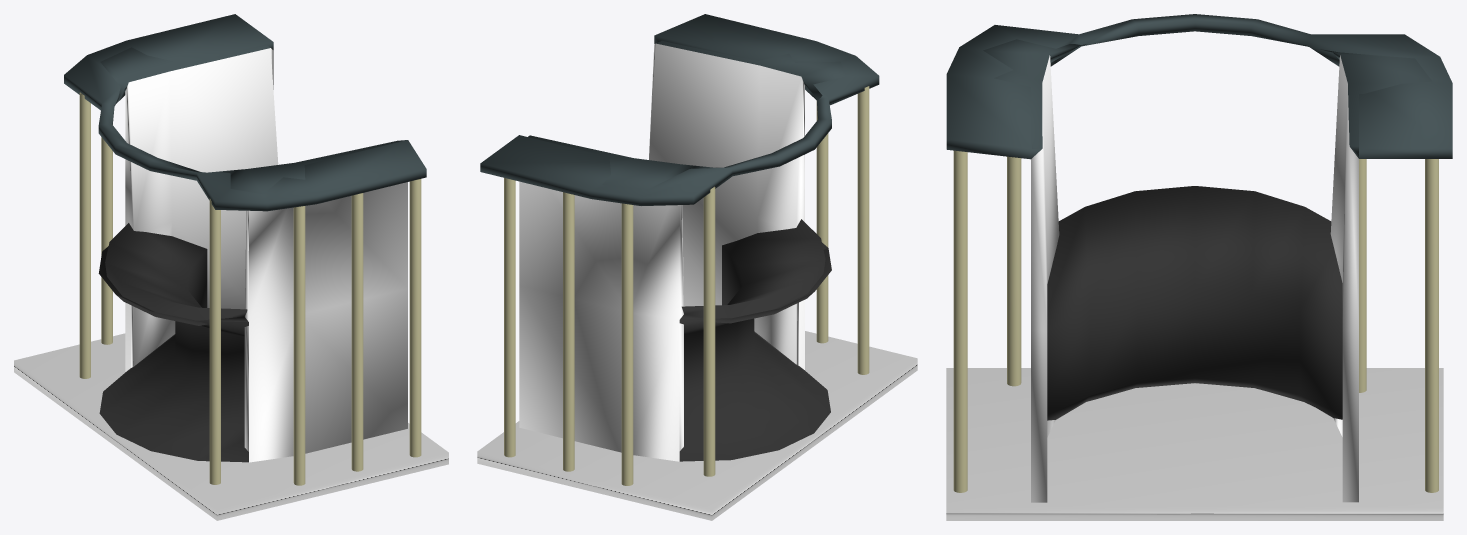
The model's file is teleporterBlenderModel.fbx.
The picture shows the model from 3 angles, left to right: view 1: azimuth 30°, elevation 25°; view 2: azimuth 150°, elevation 25°; view 3: azimuth 270°, elevation 25°; orthographic projection. The views are drawn at different scales.
Parts seen in each view (by area): view 1: Circle, Cube, Cylinder_005, Cylinder_004, Cylinder_003, Cylinder_007, Cylinder_006, Cylinder_002; view 2: Circle, Cube, Cylinder_006, Cylinder_007, Cylinder_002, Cylinder_001, Cylinder, Cylinder_005; view 3: Circle, Cube, Cylinder_003, Cylinder, Cylinder_006, Cylinder_007.
Boxes of the visible parts, left/top/right/bottom form: Circle: left=64, top=14, right=426, bottom=462; Cube: left=14, top=333, right=448, bottom=520; Cylinder_005: left=293, top=206, right=305, bottom=485; Cylinder_004: left=351, top=193, right=363, bottom=471; Cylinder_003: left=409, top=179, right=421, bottom=457; Cylinder_007: left=79, top=92, right=90, bottom=378; Cylinder_006: left=209, top=199, right=220, bottom=484; Cylinder_002: left=101, top=137, right=112, bottom=344; Circle: left=480, top=14, right=879, bottom=461; Cube: left=477, top=331, right=917, bottom=520; Cylinder_006: left=857, top=86, right=869, bottom=374; Cylinder_007: left=703, top=186, right=715, bottom=476; Cylinder_002: left=621, top=203, right=633, bottom=485; Cylinder_001: left=563, top=192, right=574, bottom=471; Cylinder: left=504, top=178, right=515, bottom=457; Cylinder_005: left=816, top=101, right=828, bottom=343; Circle: left=946, top=14, right=1452, bottom=502; Cube: left=946, top=368, right=1443, bottom=520; Cylinder_003: left=953, top=150, right=967, bottom=492; Cylinder: left=1425, top=159, right=1438, bottom=492; Cylinder_006: left=1007, top=156, right=1021, bottom=386; Cylinder_007: left=1359, top=159, right=1366, bottom=392.
Size of the model in its own units: 2 by 2.5 by 3.09.
